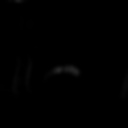missing_component: (13, 13, 115, 115)
